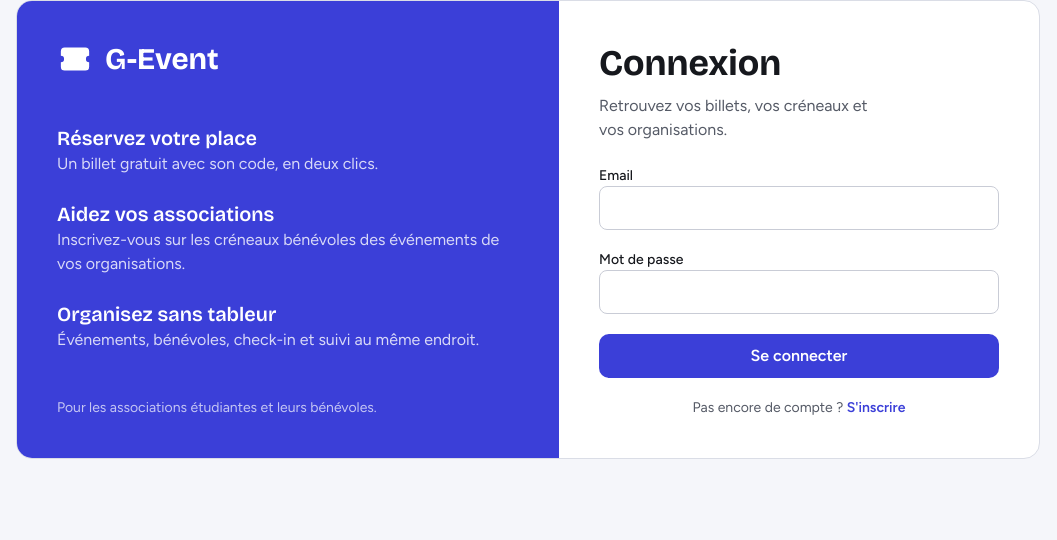
Test: LoginPage › shows the API error on invalid credentials
Type "a@b.fr" into the field labelled "Email". click: (799,208)
box: [599,186,999,230]
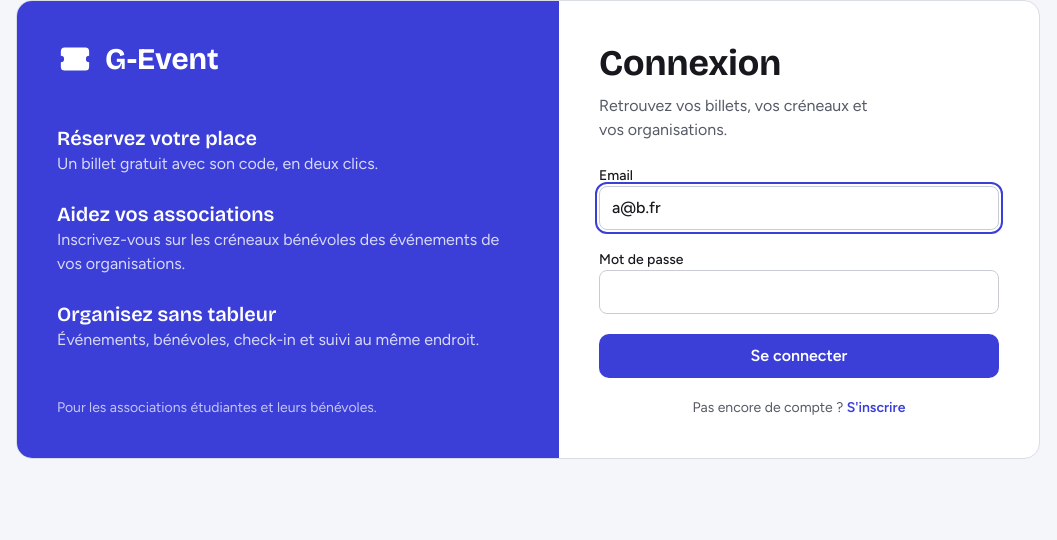
Type "wrong" into the password field labelled "Mot de passe". click: (799,292)
box: [599,270,999,314]
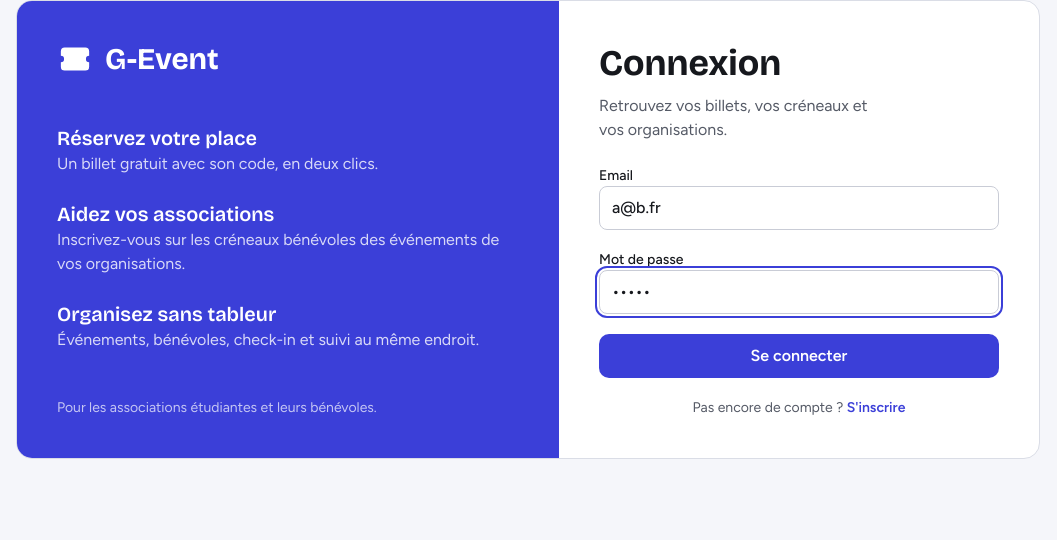
Click the button "Se connecter". click: (799,356)
box: [599,334,999,378]
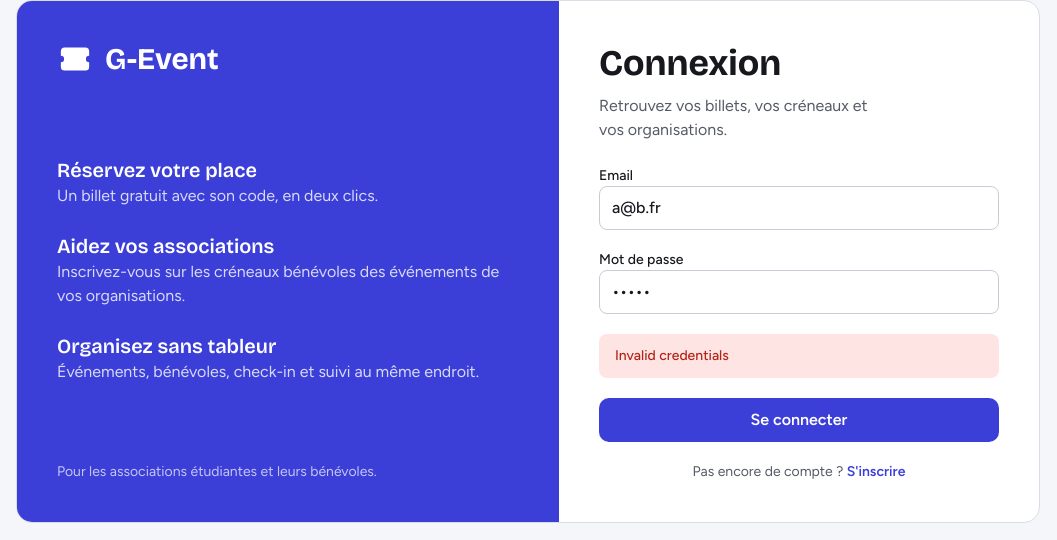
expect the message reads "Invalid credentials": met, box [615,347,729,364]
